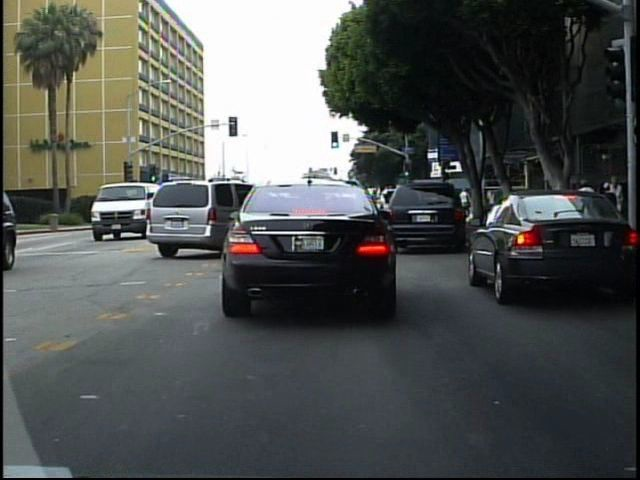person: (606, 171, 624, 238), (458, 184, 472, 221)
